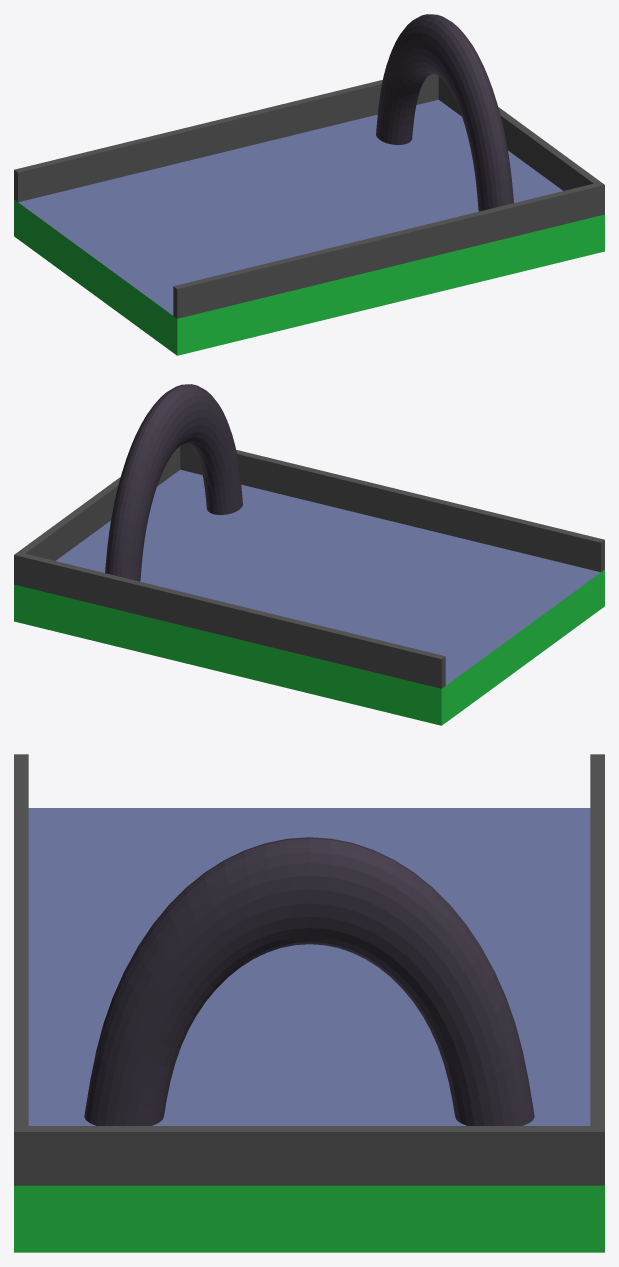
The model's file is EndRoom.fbx.
3 views of the same model, one above another, from view 1: azimuth 30°, elevation 25°; view 2: azimuth 150°, elevation 25°; view 3: azimuth 270°, elevation 25° (orthographic). The views are drawn at different scales.
Parts seen in each view (by area): view 1: Cube, Torus; view 2: Cube, Torus; view 3: Cube, Torus.
Boxes of the visible parts, box(x1,y1,x2,y2) form: Cube: box(14, 74, 604, 355); Torus: box(376, 14, 513, 211); Cube: box(14, 444, 604, 725); Torus: box(105, 384, 242, 581); Cube: box(14, 754, 604, 1252); Torus: box(84, 837, 534, 1125).
Size of the model in its own units: 3025 by 1289 by 2000.
